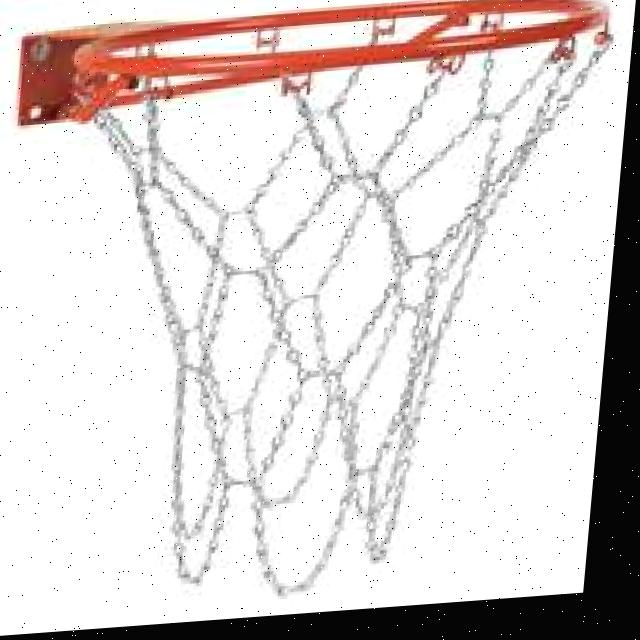hoop: (25, 0, 620, 614)
